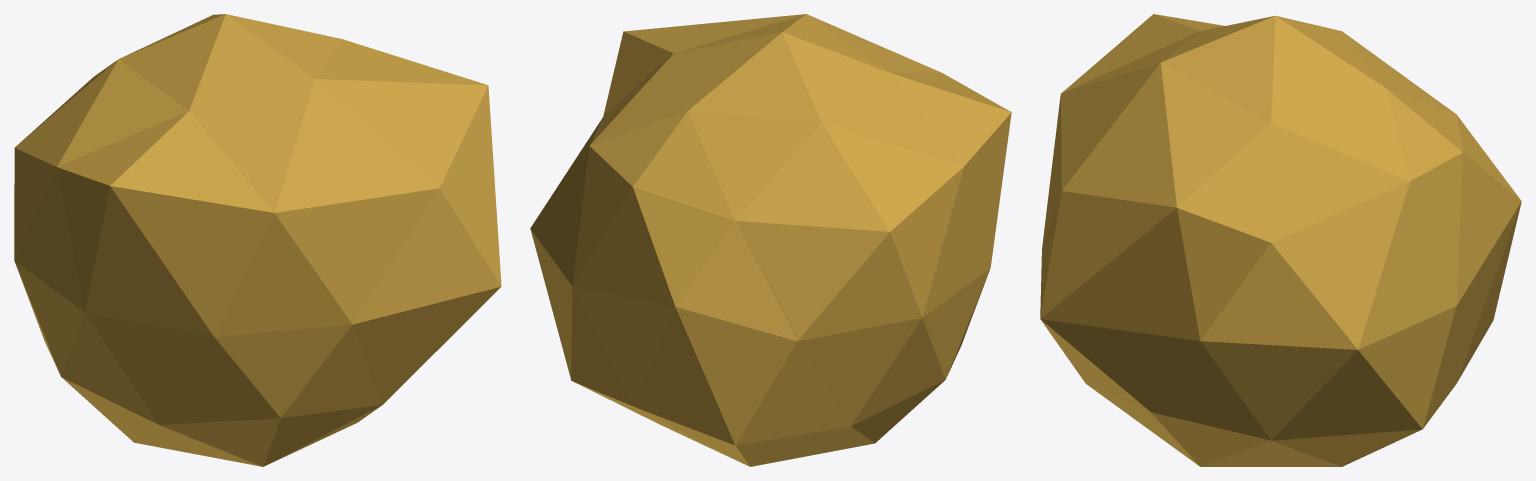
File: gold.fbx
3 renders of one model, left to right at view 1: azimuth 30°, elevation 25°; view 2: azimuth 150°, elevation 25°; view 3: azimuth 270°, elevation 25°, orthographic. The views are drawn at different scales.
Visible parts, largest first — view 1: Icosphere; view 2: Icosphere; view 3: Icosphere.
Part boxes in pixels (left/top/right/bottom): Icosphere: left=14, top=14, right=501, bottom=466; Icosphere: left=530, top=14, right=1011, bottom=466; Icosphere: left=1040, top=14, right=1521, bottom=466.
Bounding box in the file's own units: 666 × 695 × 696.
